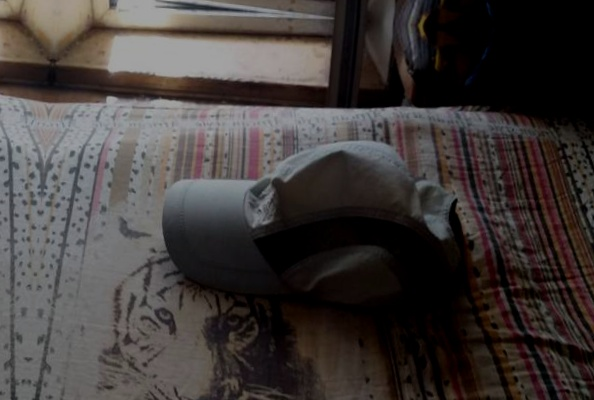Hat: (123, 100, 496, 339)
